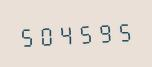five: (17, 23, 35, 49), (75, 20, 93, 46), (113, 18, 131, 44)
four: (56, 21, 74, 47)
nine: (94, 19, 112, 45)
zero: (36, 22, 54, 48)
